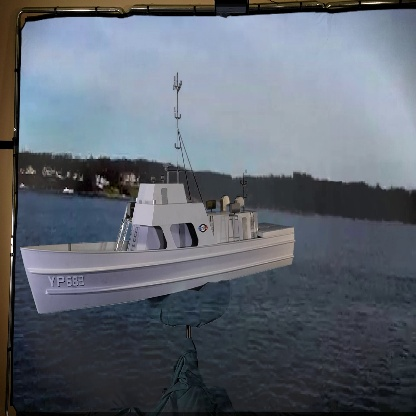YP689: (22, 75, 295, 319)
